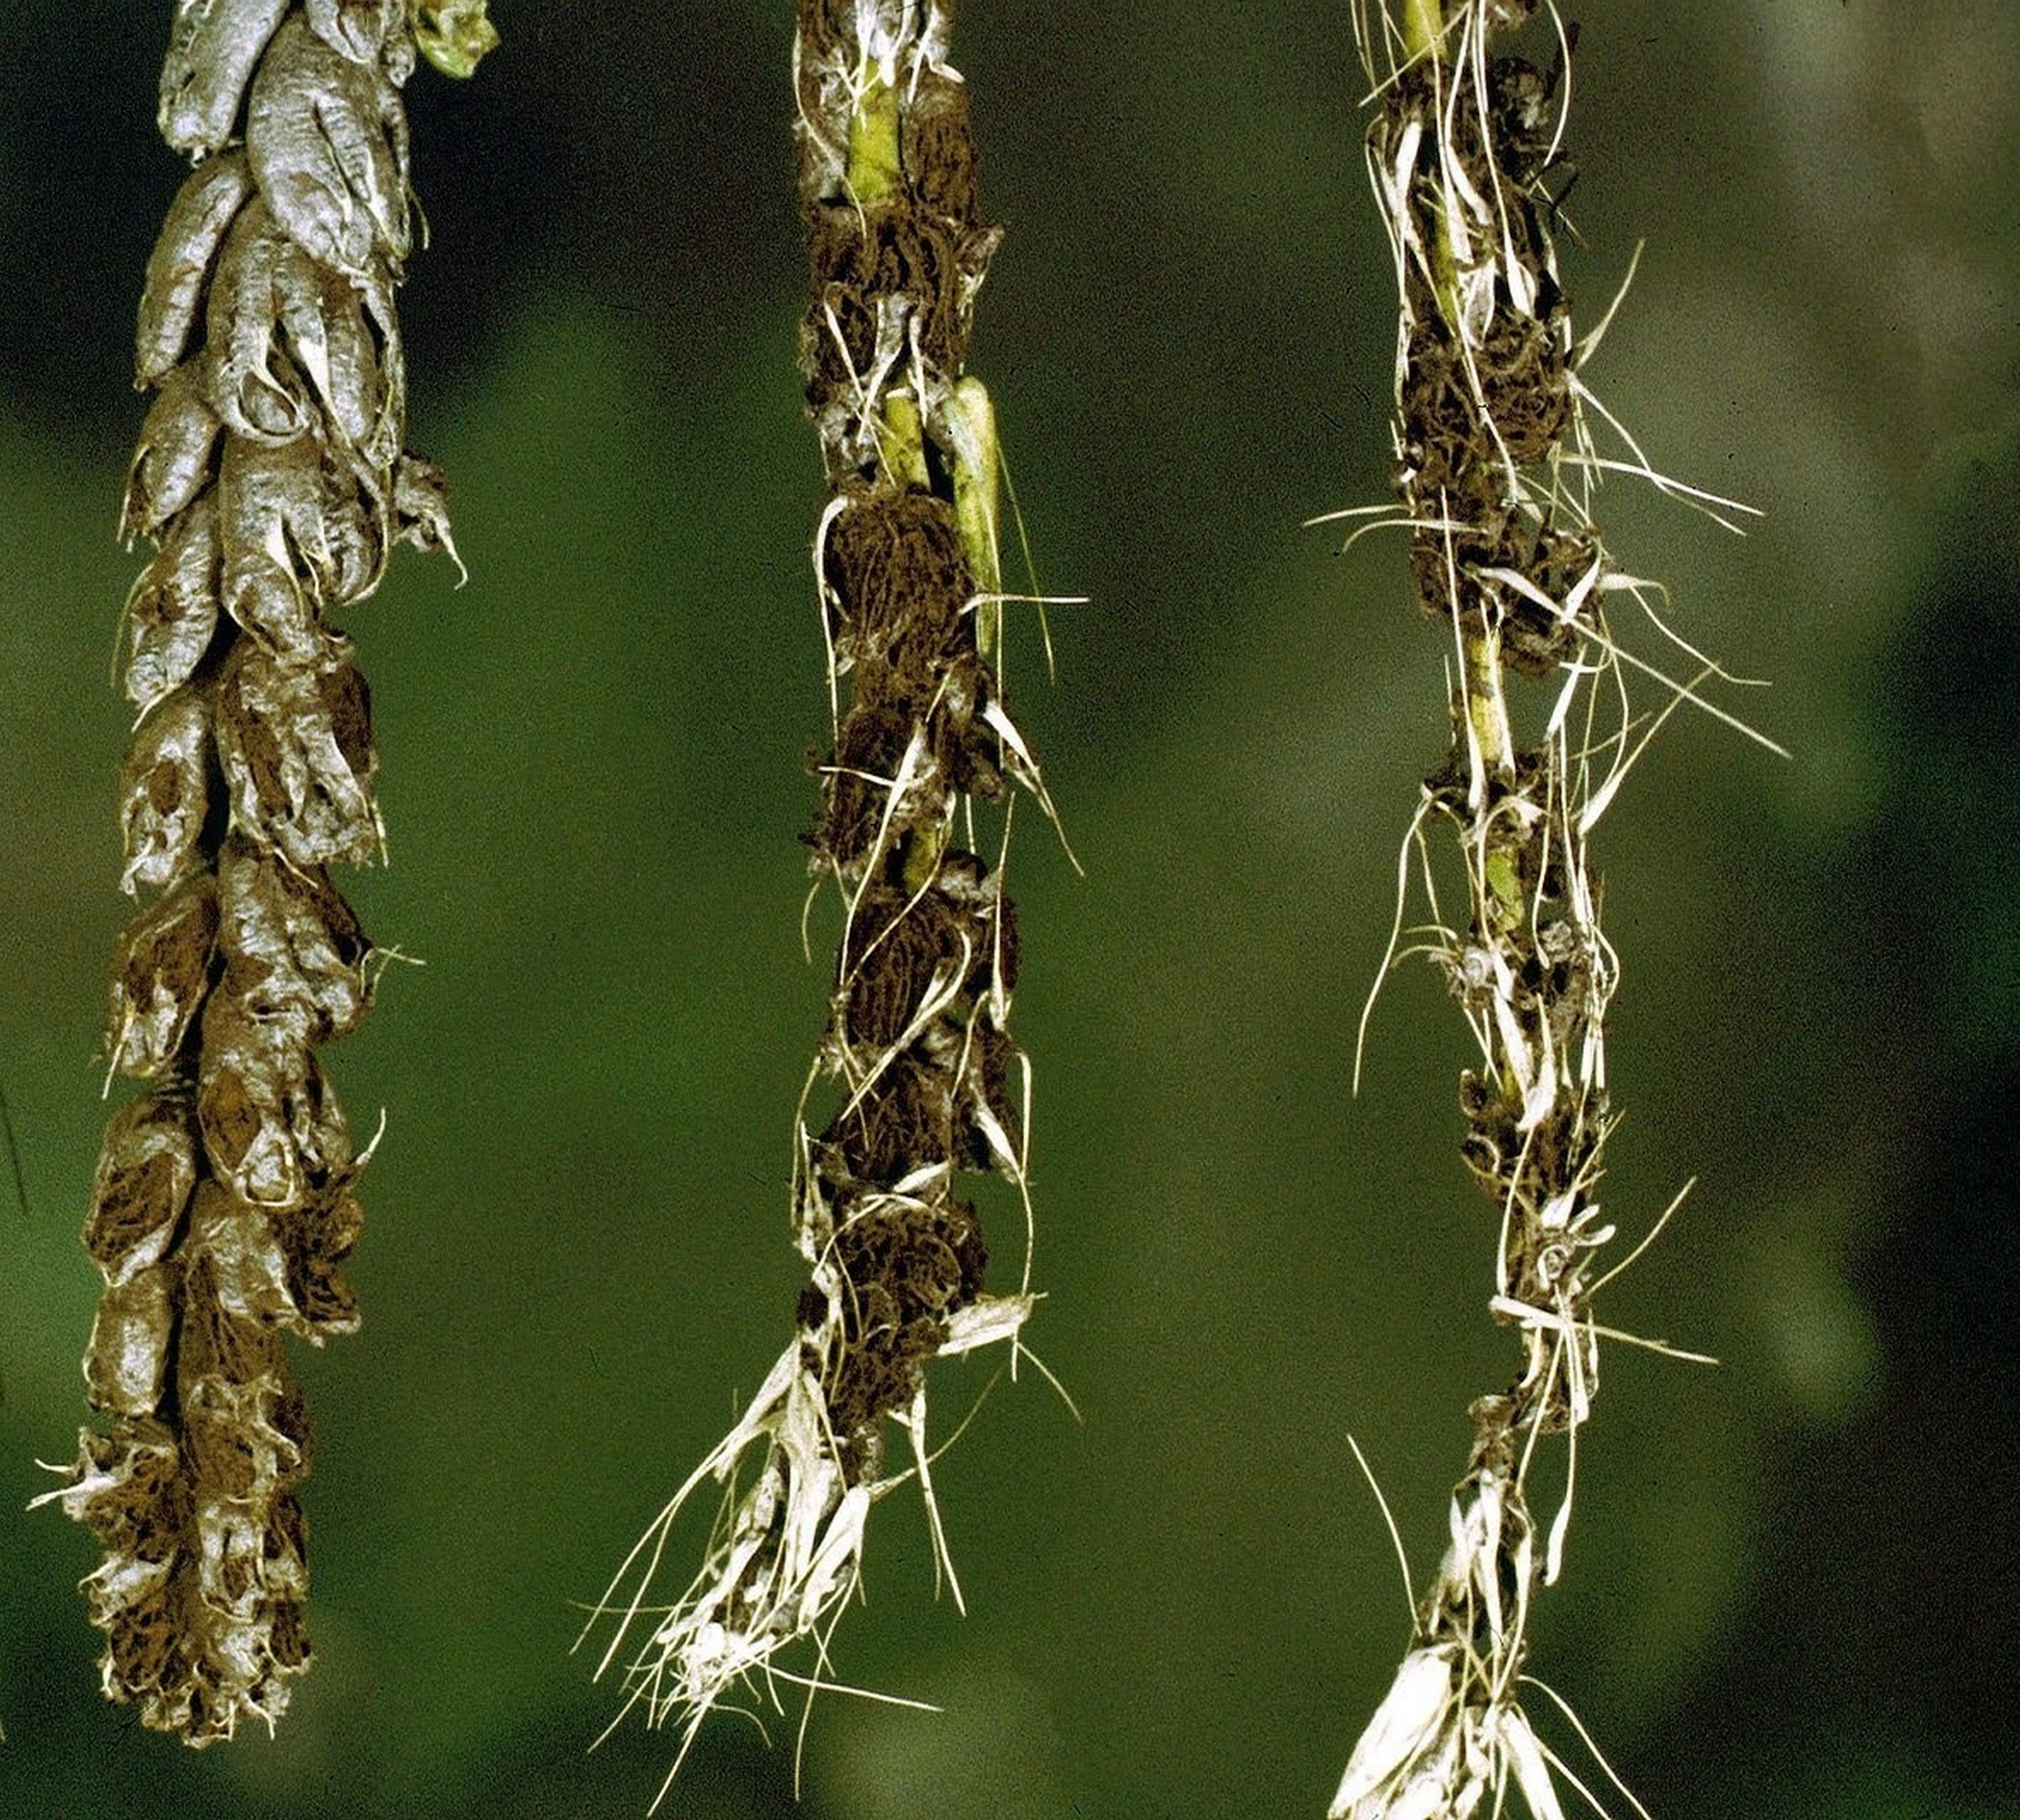Wheat Loose Smut: (708, 65, 1161, 1671), (60, 37, 467, 1737), (1344, 70, 1739, 1743)
